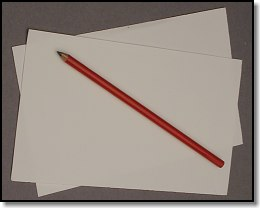pen_tip: (55, 47, 71, 64)
